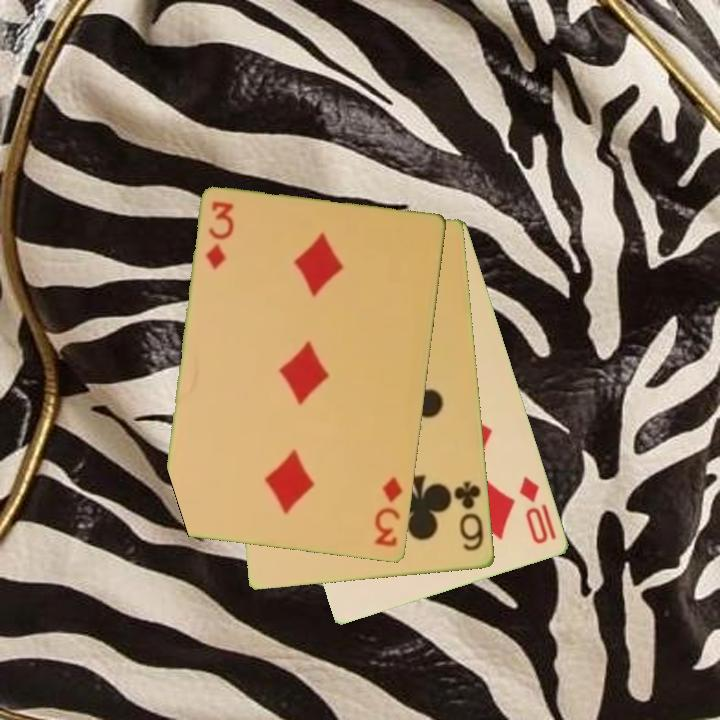10d: (516, 472, 552, 547)
3d: (372, 473, 406, 550), (203, 198, 237, 274)
6c: (451, 478, 487, 554)
